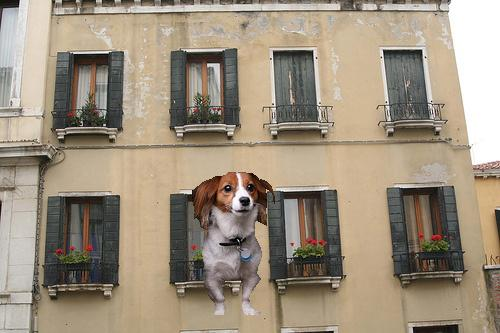tampered: (193, 173, 275, 315)
